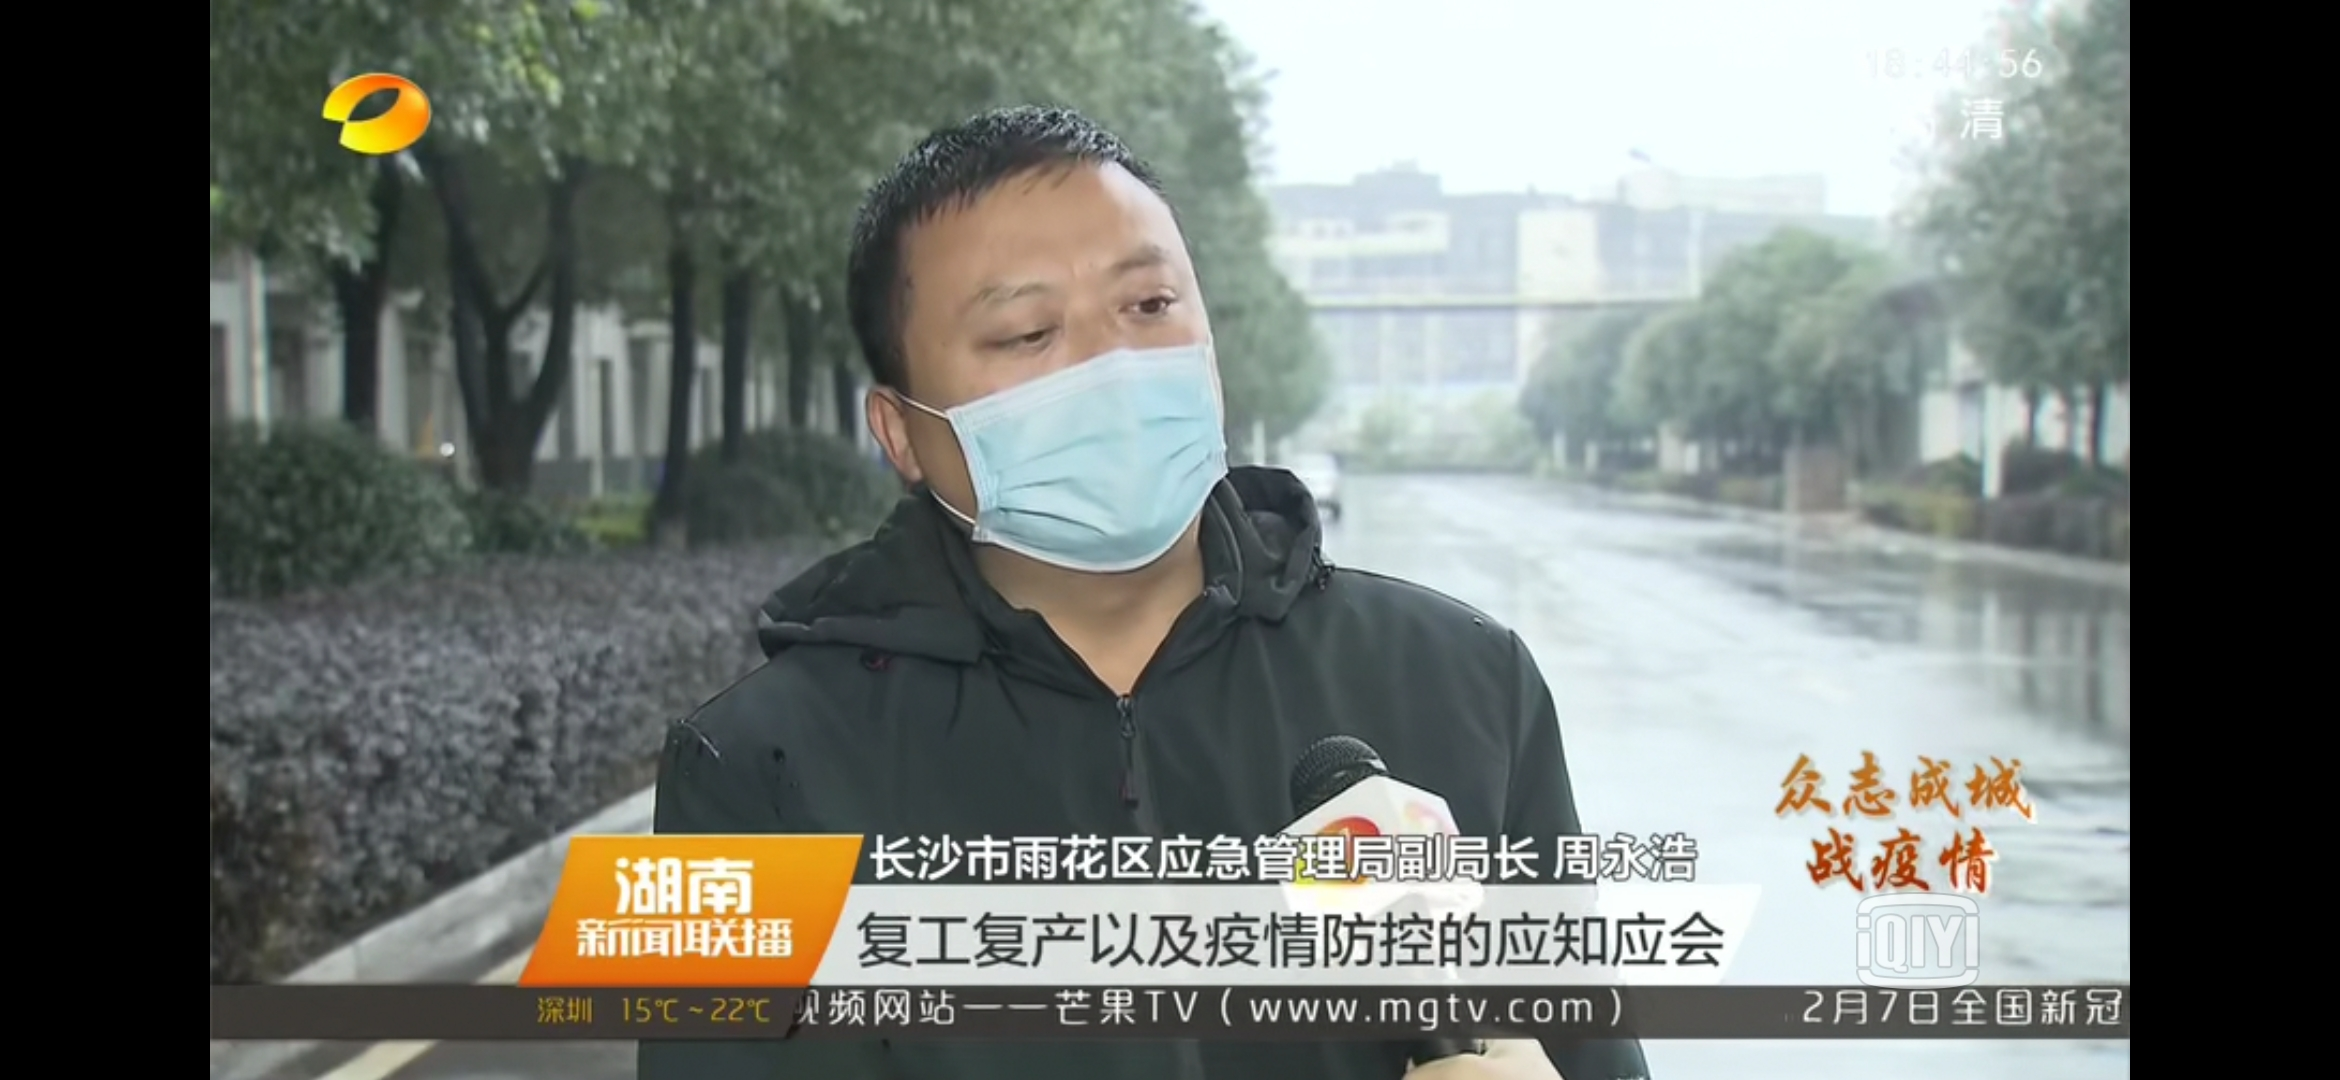correctlyWear: (861, 230, 1231, 571)
